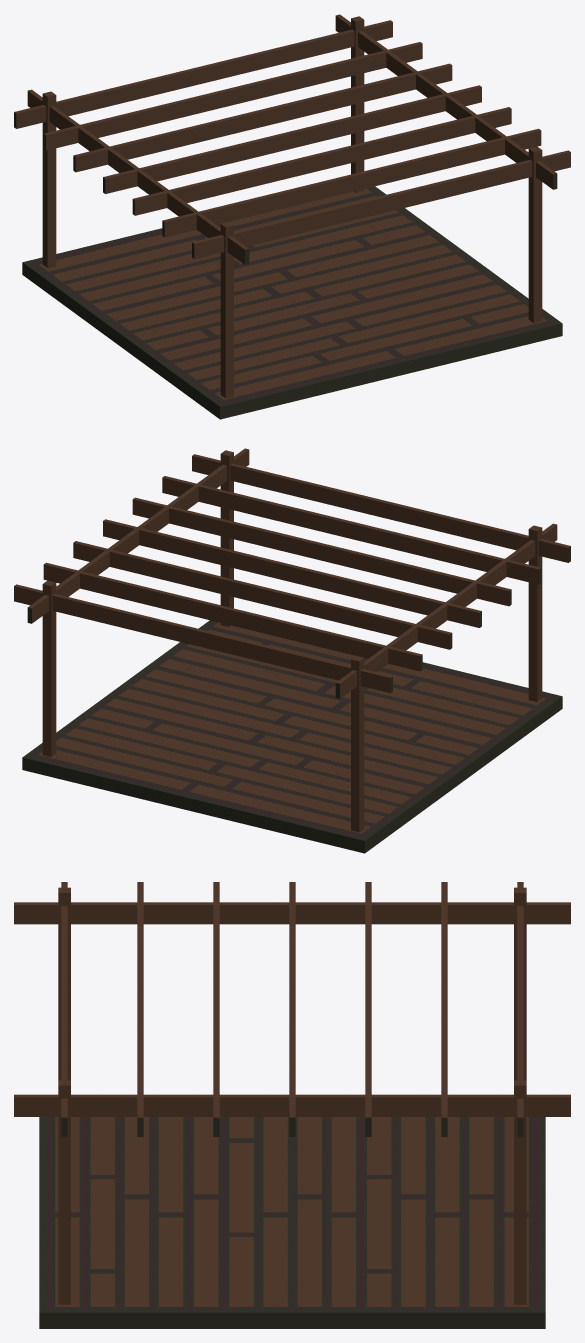
Rendered from d0f7d4eb-caf0-4040-9ac8-91c25dd1de51.glb.
3 views of the same model, one above another, from view 1: azimuth 30°, elevation 25°; view 2: azimuth 150°, elevation 25°; view 3: azimuth 270°, elevation 25° (orthographic). The views are drawn at different scales.
Parts seen in each view (by area): view 1: Cabana; view 2: Cabana; view 3: Cabana.
Boxes of the visible parts, x1,y1,x2,y2 form: Cabana: (14,14,570,419); Cabana: (14,448,570,853); Cabana: (14,882,570,1328).
Size of the model in its own units: 1100 by 513 by 1100.
1 material, 1 textured.
